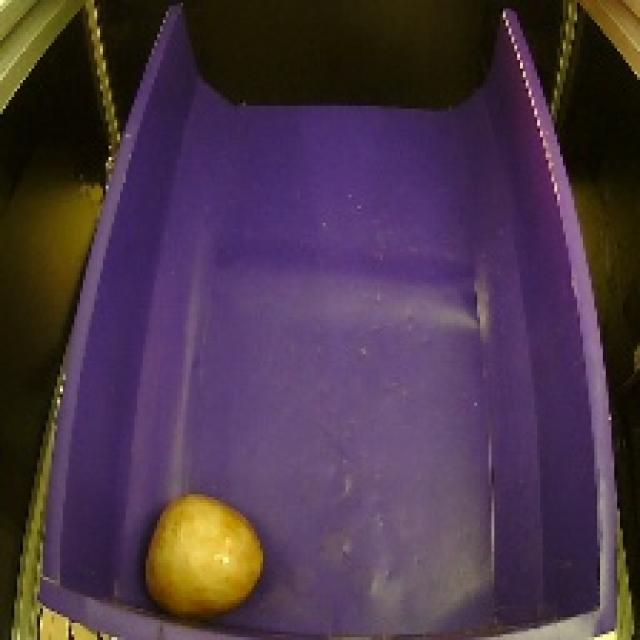cobbles: (129, 475, 274, 622)
